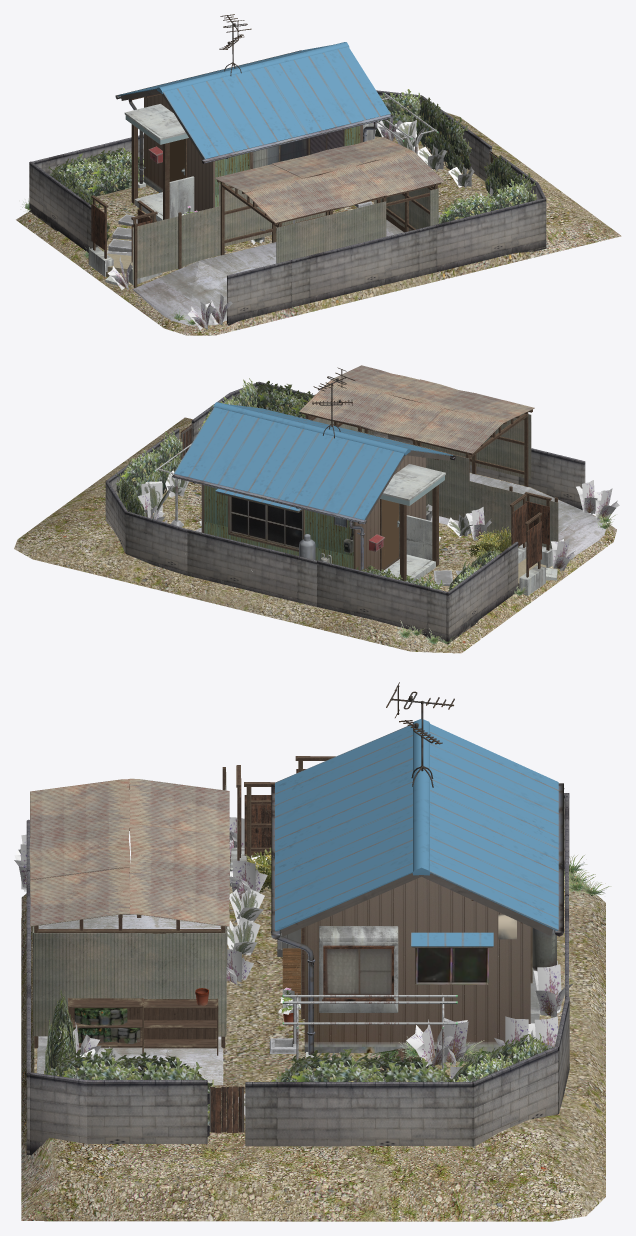
File: houseset01.fbx
3 views of the same model, one above another, from view 1: azimuth 30°, elevation 25°; view 2: azimuth 150°, elevation 25°; view 3: azimuth 270°, elevation 25° (orthographic). The views are drawn at different scales.
Parts seen in each view (by area): view 1: houseset01; view 2: houseset01; view 3: houseset01.
Boxes of the visible parts, <box> form: houseset01: <box>16,14,621,335</box>; houseset01: <box>14,365,619,653</box>; houseset01: <box>14,682,611,1221</box>.
Size of the model in its own units: 1351 by 974 by 572.
Materials: 19 (19 with a texture image).
